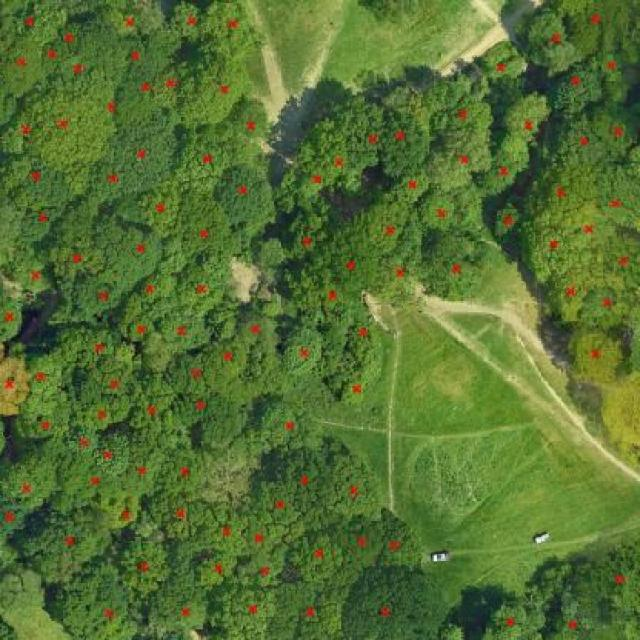tree: (337, 561, 454, 640), (24, 88, 124, 180), (40, 551, 142, 640), (409, 226, 506, 314), (160, 127, 262, 201), (306, 101, 376, 208), (108, 109, 187, 198), (199, 321, 278, 410), (180, 46, 258, 134), (83, 215, 163, 298), (504, 207, 581, 293), (15, 506, 119, 568), (421, 121, 497, 204), (111, 526, 186, 606), (273, 438, 345, 520), (46, 206, 114, 292), (165, 251, 249, 320), (586, 535, 640, 640), (376, 93, 436, 185), (518, 154, 600, 220), (165, 199, 249, 263), (198, 0, 273, 71), (592, 363, 640, 472), (557, 0, 640, 62), (208, 571, 281, 640), (328, 444, 392, 522), (141, 575, 217, 640), (288, 264, 368, 325), (561, 326, 634, 392), (334, 87, 386, 178), (154, 437, 223, 505), (438, 68, 504, 138), (248, 394, 323, 455), (211, 160, 277, 228), (542, 114, 613, 177), (330, 503, 388, 579), (477, 134, 538, 206), (552, 196, 626, 255), (129, 182, 197, 246), (150, 487, 225, 544), (272, 577, 339, 640), (127, 367, 182, 442), (543, 256, 595, 335), (193, 492, 249, 565), (524, 4, 585, 71), (351, 199, 414, 263), (276, 313, 329, 389), (200, 388, 260, 455), (11, 162, 80, 220), (284, 518, 342, 587), (548, 60, 609, 125), (244, 474, 310, 534), (0, 452, 65, 512), (603, 139, 640, 244), (53, 280, 129, 331), (370, 507, 422, 581), (320, 229, 377, 296), (0, 28, 49, 103), (279, 204, 336, 268), (76, 385, 141, 441), (340, 304, 394, 370), (580, 104, 640, 162), (97, 0, 174, 45), (72, 156, 132, 213), (396, 75, 452, 136), (471, 38, 526, 100), (477, 594, 551, 640), (146, 59, 206, 115), (116, 434, 164, 504), (233, 500, 287, 562), (577, 273, 628, 338), (502, 89, 558, 148), (238, 531, 292, 592), (0, 337, 35, 431), (13, 395, 75, 448), (184, 542, 248, 593), (70, 322, 139, 369), (14, 198, 71, 254), (0, 0, 69, 46), (286, 147, 334, 213), (163, 338, 214, 400), (0, 254, 60, 306), (88, 484, 149, 534), (129, 326, 185, 380), (589, 51, 636, 114), (170, 377, 221, 435), (0, 566, 51, 622), (0, 291, 48, 349), (413, 184, 465, 236), (543, 594, 600, 640), (88, 77, 135, 132), (375, 250, 422, 305), (52, 422, 108, 468), (24, 348, 74, 398), (94, 354, 144, 403), (114, 35, 160, 87), (389, 163, 433, 214), (129, 269, 180, 311), (238, 307, 280, 358), (54, 44, 100, 90), (68, 465, 121, 504), (1, 111, 41, 162), (207, 296, 245, 349), (90, 432, 136, 474), (86, 3, 122, 55), (489, 195, 520, 254), (168, 0, 205, 49), (333, 375, 375, 416), (122, 310, 166, 348), (38, 36, 72, 84), (248, 235, 294, 270), (0, 87, 32, 132), (1, 500, 33, 545), (61, 15, 90, 57), (254, 297, 292, 323), (439, 614, 468, 640), (0, 617, 22, 640)
